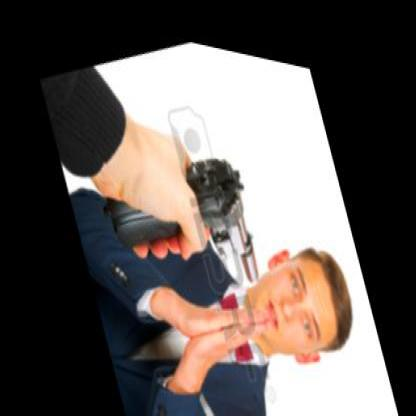pistol: (101, 104, 269, 324)
